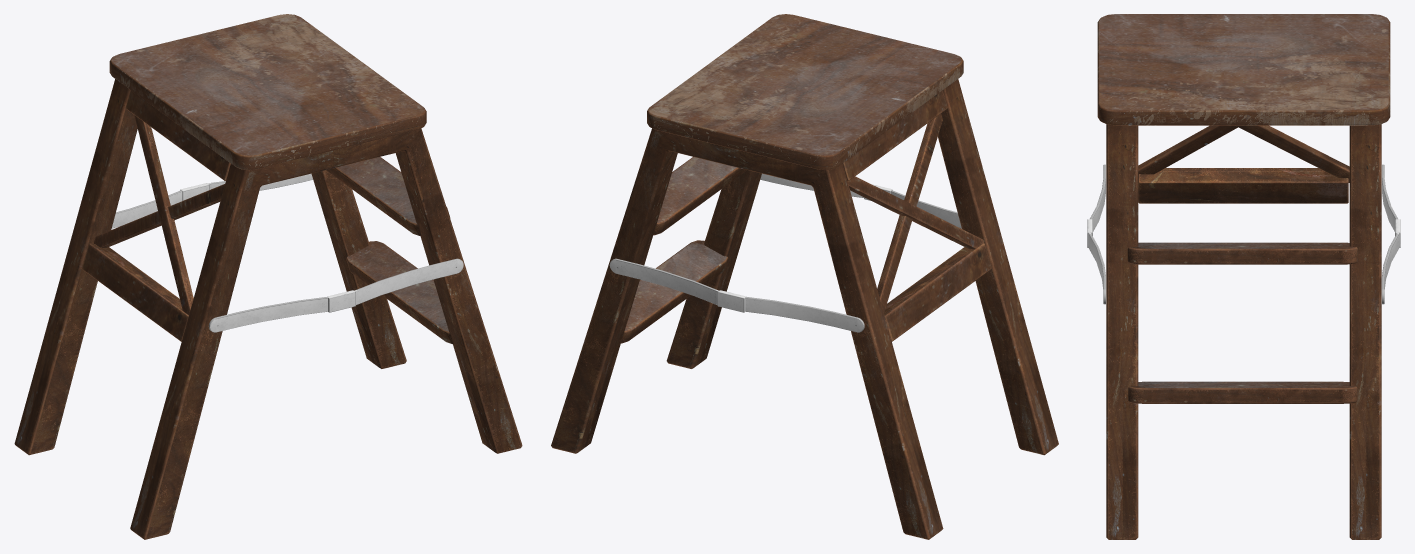
The model's file is SM_Little_Ladder.fbx.
3 views of the same model, side by side, from view 1: azimuth 30°, elevation 25°; view 2: azimuth 150°, elevation 25°; view 3: azimuth 270°, elevation 25° (orthographic). The views are drawn at different scales.
Visible parts, largest first — view 1: SM_Little_Ladder_LOD0; view 2: SM_Little_Ladder_LOD0; view 3: SM_Little_Ladder_LOD0.
Boxes of the visible parts, box(x1,y1,x2,y2) form: SM_Little_Ladder_LOD0: box(14, 14, 522, 539); SM_Little_Ladder_LOD0: box(551, 14, 1058, 539); SM_Little_Ladder_LOD0: box(1087, 14, 1400, 539).
Size of the model in its own units: 66.01 by 44.93 by 60.23.
Materials: 1 (1 with a texture image).
